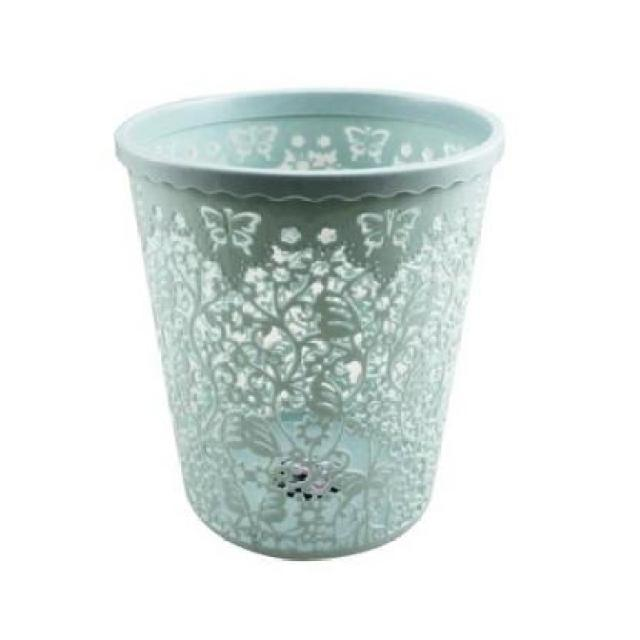dustbin: (109, 82, 510, 566)
